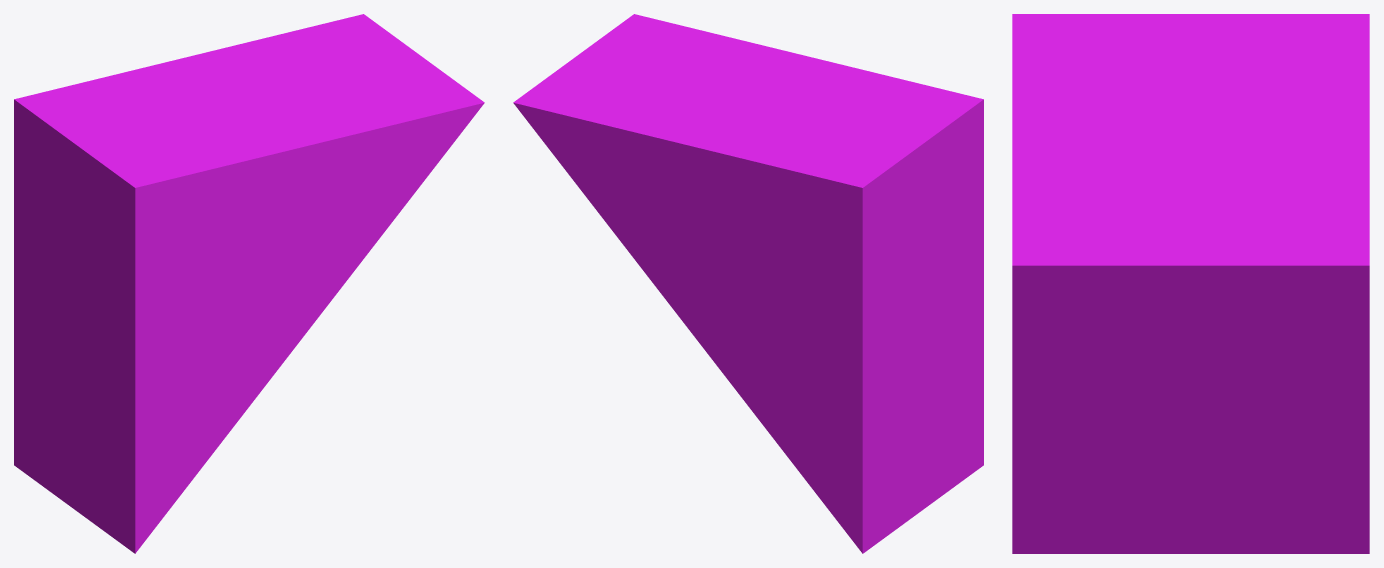
Rendered from fulcrum.glb.
The picture shows the model from 3 angles, left to right: view 1: azimuth 30°, elevation 25°; view 2: azimuth 150°, elevation 25°; view 3: azimuth 270°, elevation 25°; orthographic projection. The views are drawn at different scales.
Size of the model in its own units: 50 by 50 by 30.
